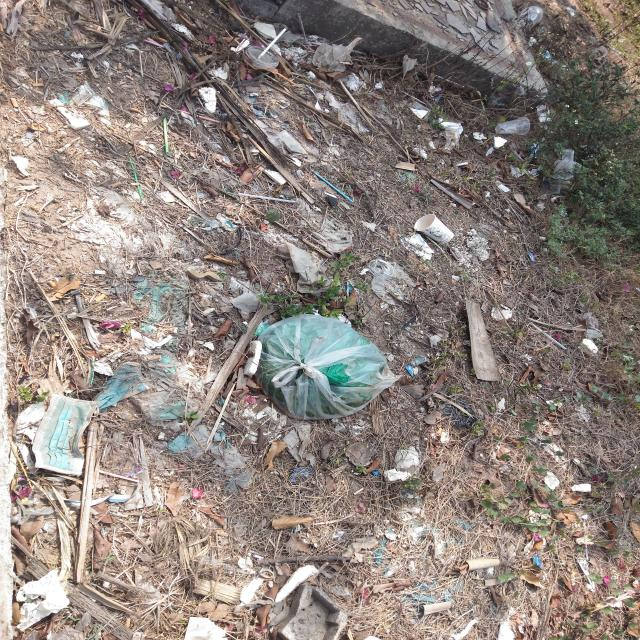litter: (258, 28, 286, 58), (129, 158, 143, 198), (162, 112, 168, 153)
